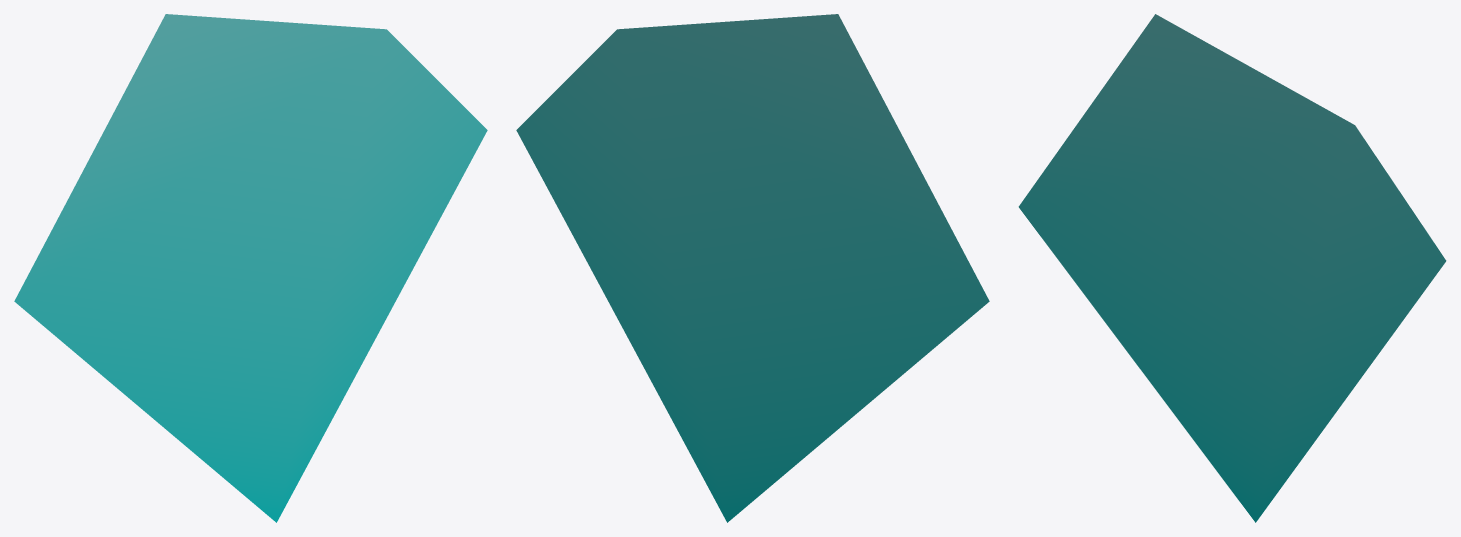
The model's file is xefmcgrqx_VarD_LOD3.fbx.
The picture shows the model from 3 angles, left to right: view 1: azimuth 30°, elevation 25°; view 2: azimuth 150°, elevation 25°; view 3: azimuth 330°, elevation 25°; orthographic projection. The views are drawn at different scales.
Parts seen in each view (by area): view 1: _s5v0_VarD_LOD6; view 2: _s5v0_VarD_LOD6; view 3: _s5v0_VarD_LOD6.
Part boxes in pixels (x1,y1,x2,y2): _s5v0_VarD_LOD6: [14, 14, 487, 522]; _s5v0_VarD_LOD6: [516, 14, 989, 522]; _s5v0_VarD_LOD6: [1018, 14, 1446, 522].
Size of the model in its own units: 58.09 by 62.85 by 0.
